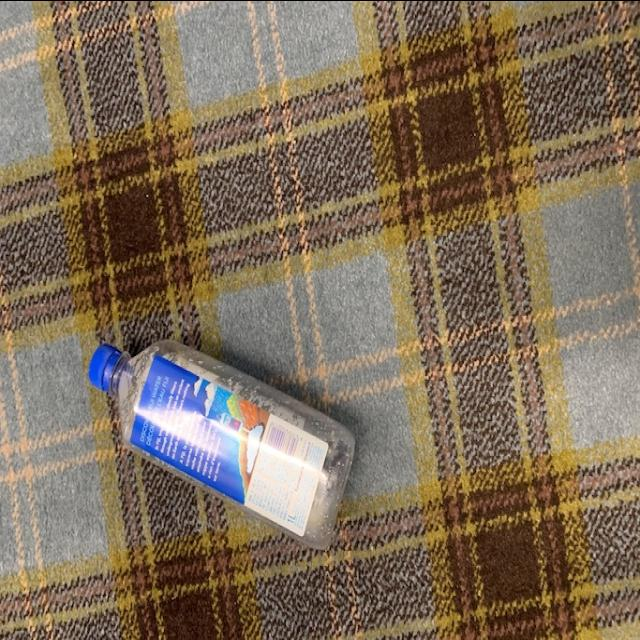PET: (86, 333, 357, 555)
